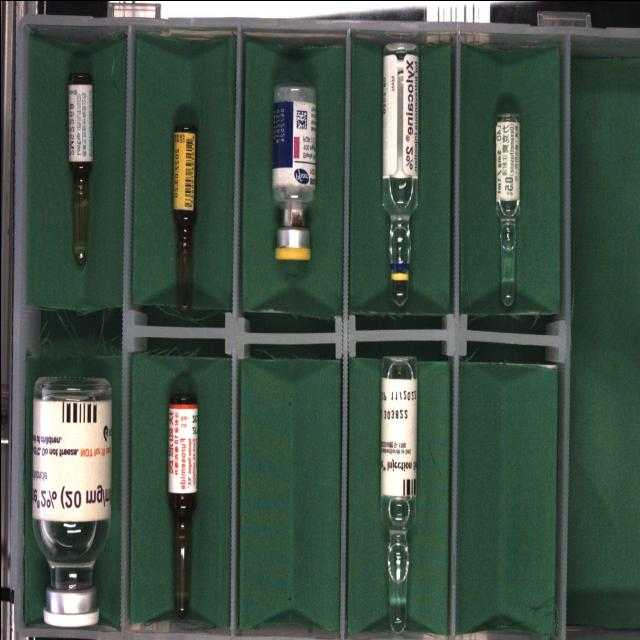Vials: (31, 377, 111, 626), (271, 84, 315, 259)
